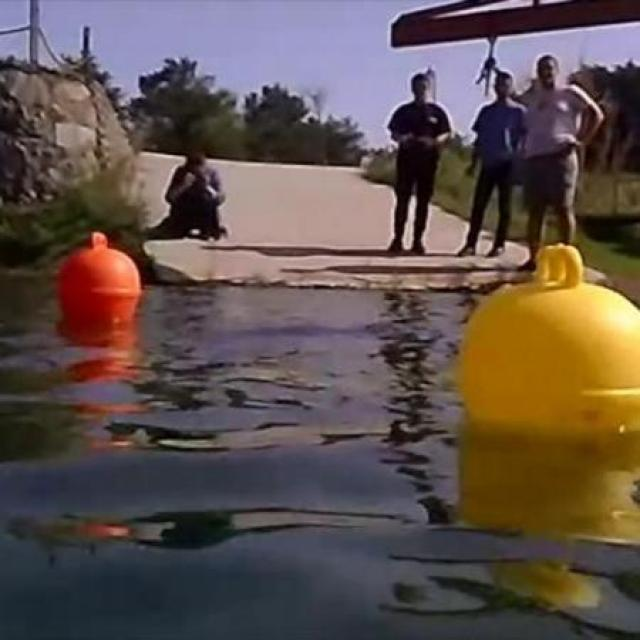buoy: (453, 242, 640, 434), (56, 232, 140, 324)
